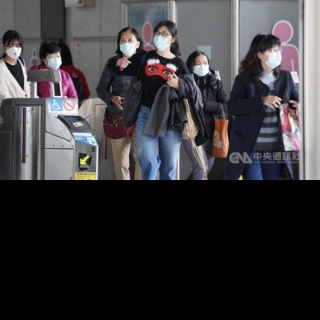with_mask: (153, 28, 172, 52), (264, 46, 283, 70), (119, 36, 137, 57), (45, 53, 63, 71), (192, 59, 209, 77), (5, 42, 21, 60)
